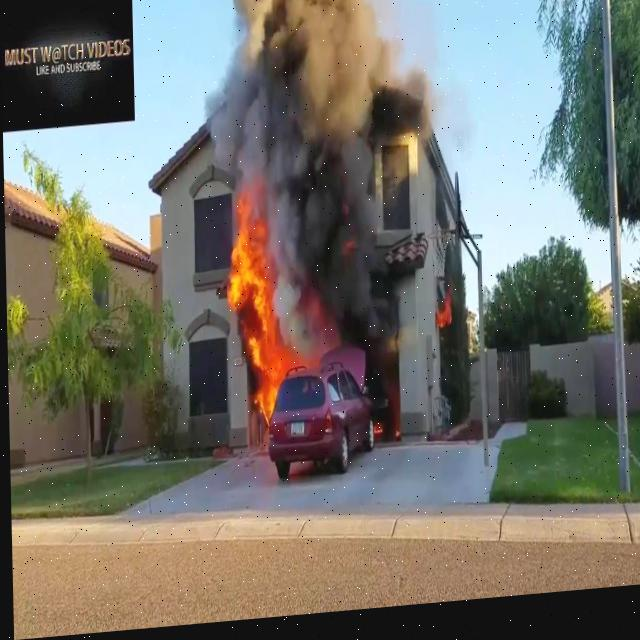Fire: (223, 178, 326, 438)
